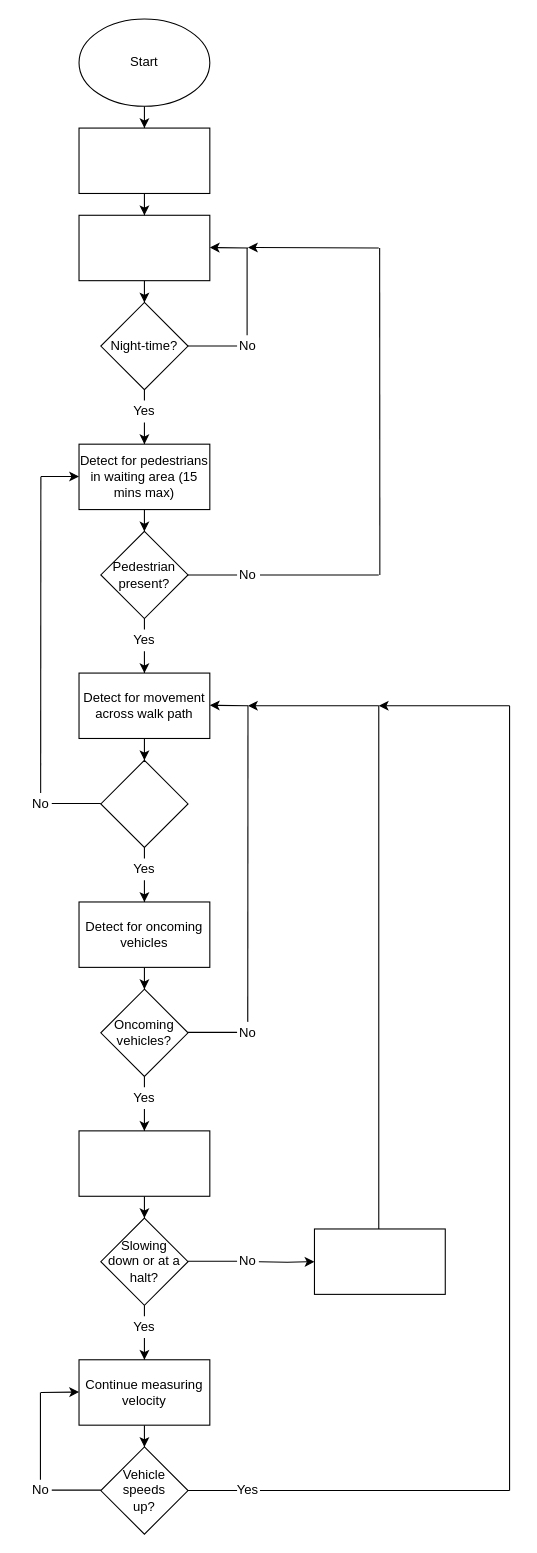
Image size: 537x1553. Some labels were removed from this diagram. The box of each missing label's shape, as (x1, y1, x2, y2) in pixels:
Alert with LEDs, sound, and projection on road (five seconds): (313, 1228, 445, 1294)
Establish network connection: (78, 127, 210, 193)
Measure velocity of oncoming vehicles: (78, 1130, 210, 1196)
Pedestrian crossing?: (100, 759, 188, 847)
Sense daylight: (78, 214, 210, 281)
